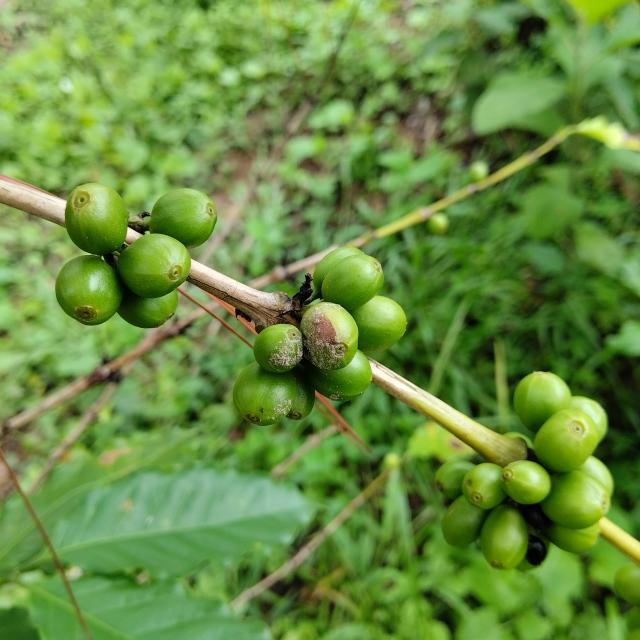green: (55, 255, 123, 325), (117, 233, 190, 298), (64, 182, 128, 255), (534, 409, 600, 473), (148, 188, 217, 248), (541, 471, 611, 530), (233, 362, 296, 426), (321, 254, 384, 311), (305, 350, 372, 402), (514, 372, 572, 432), (350, 295, 407, 352), (480, 505, 529, 571), (116, 287, 177, 328), (442, 496, 490, 548), (253, 324, 303, 373), (313, 247, 364, 293), (502, 461, 552, 505), (462, 463, 508, 510), (572, 396, 610, 442), (546, 523, 601, 554), (435, 460, 476, 500), (286, 368, 315, 421)
red: (300, 302, 359, 371)
